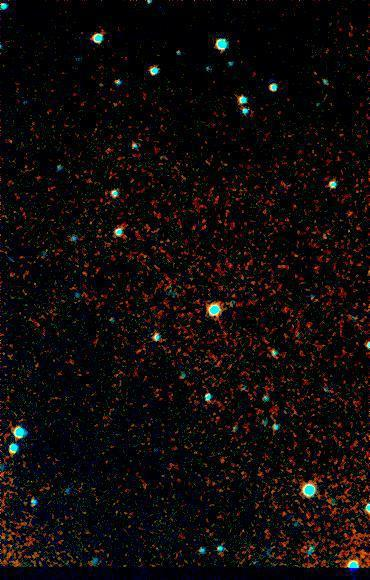star: (175, 377, 205, 407)
